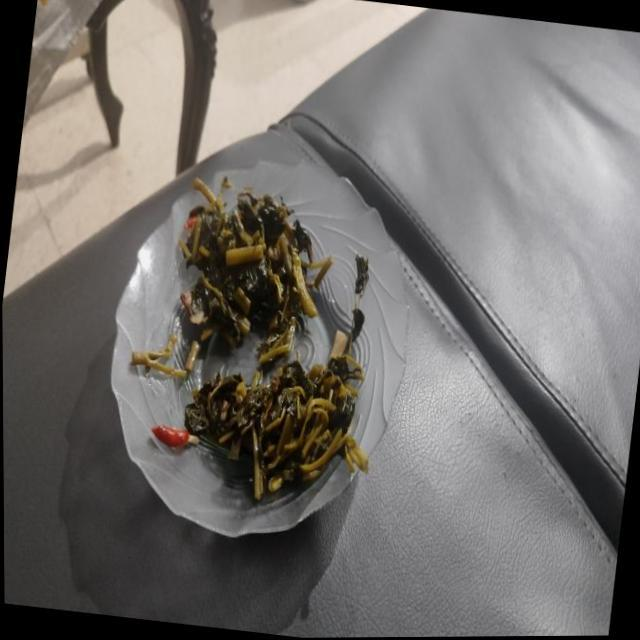tumis_kangkung: (184, 330, 367, 500), (178, 178, 332, 374)
